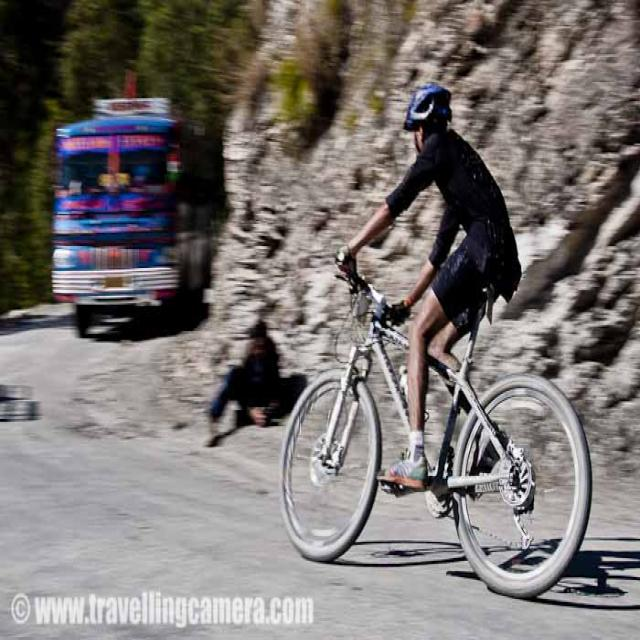bicycle: (280, 84, 591, 597)
